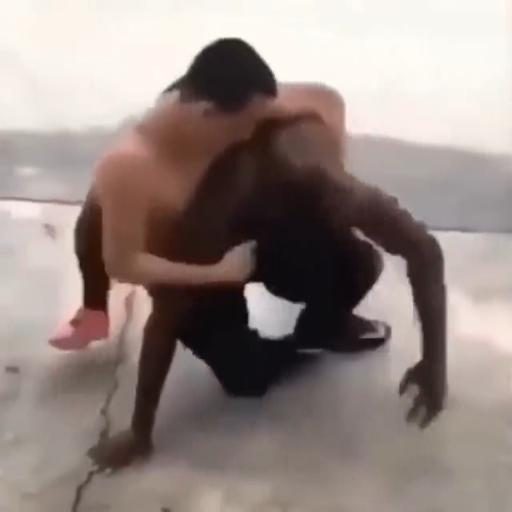violencia: (40, 18, 467, 482)
